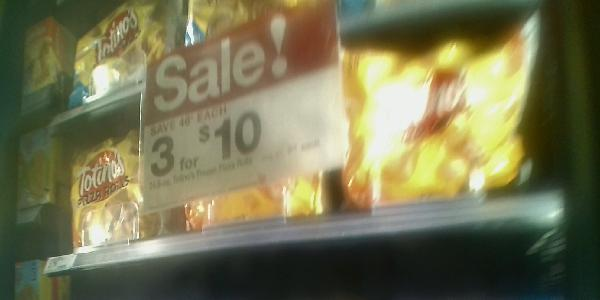icecream: (348, 8, 540, 214), (161, 85, 330, 233), (52, 127, 166, 250)
